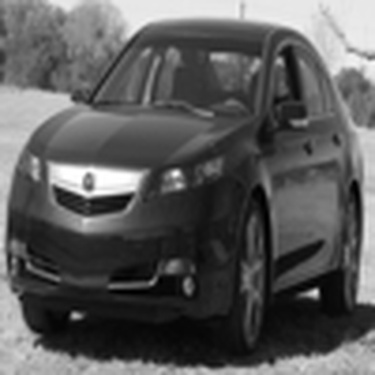car: (3, 2, 369, 370)
